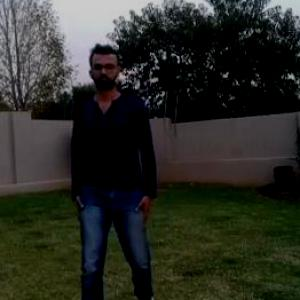follow: (70, 58, 143, 299)
